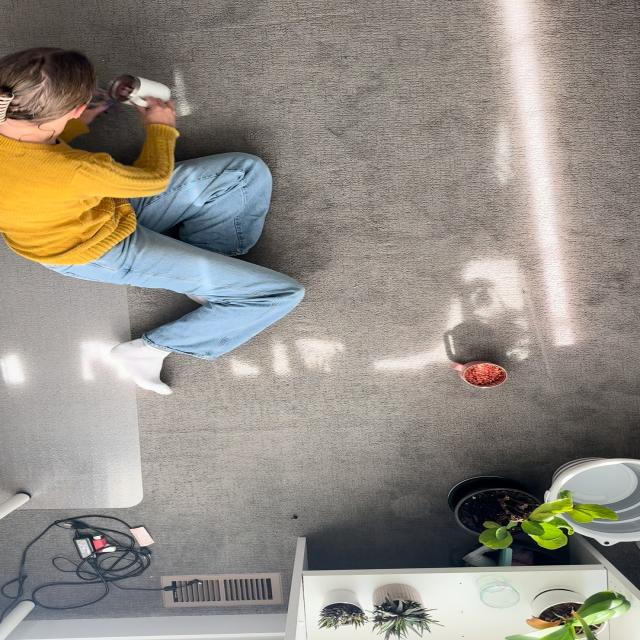IBC: (107, 74, 171, 108), (450, 360, 507, 388)
